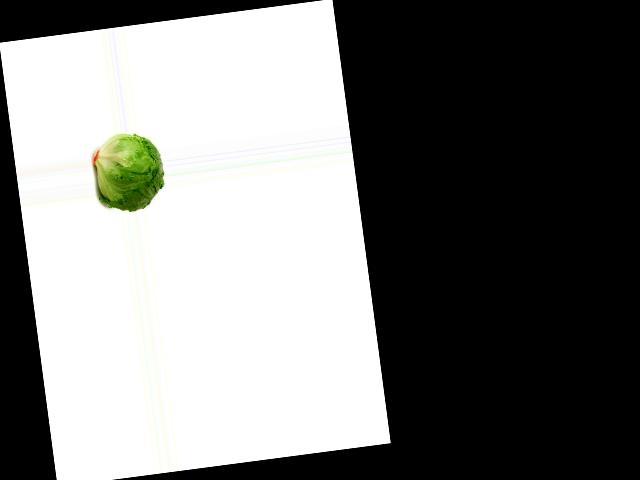lettuce: (92, 133, 168, 214)
